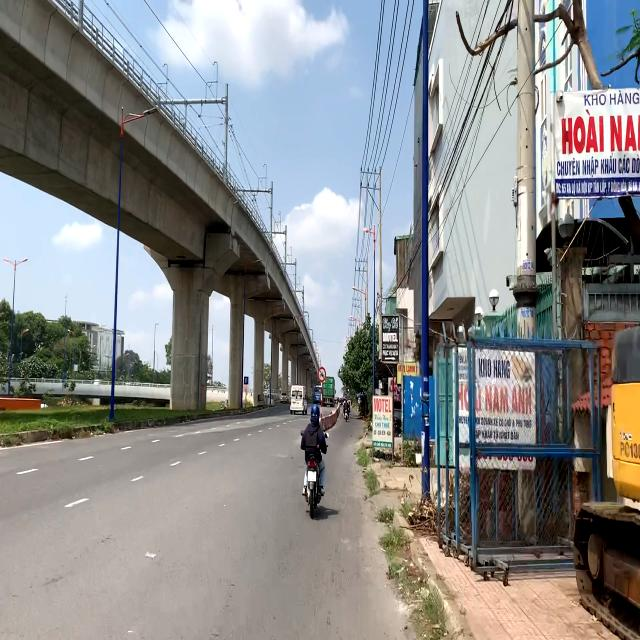P.104: (318, 367, 326, 382)
R.409: (244, 376, 248, 385)
